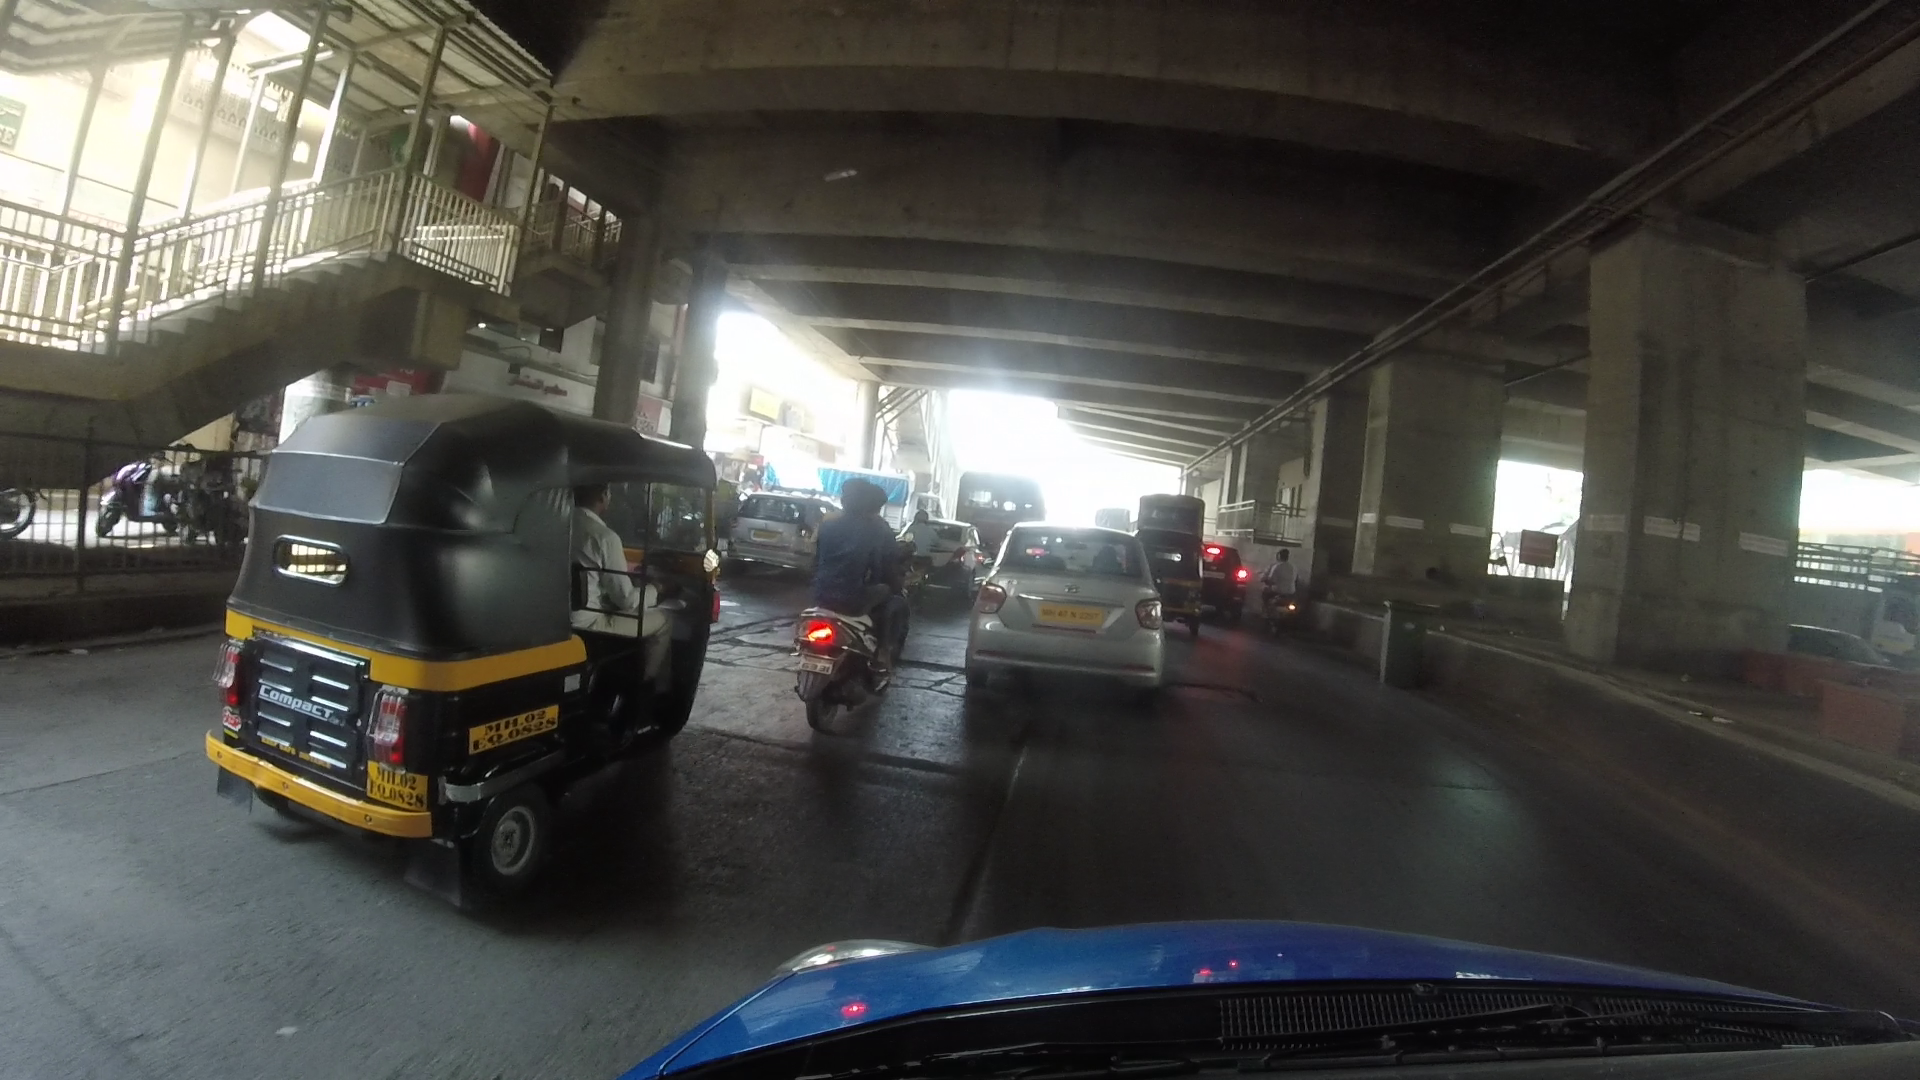bike/scooter: (793, 488, 913, 729), (1261, 550, 1305, 633)
car: (968, 520, 1174, 692), (729, 496, 837, 568)
rickshaw: (199, 388, 716, 882), (1138, 527, 1211, 638)
